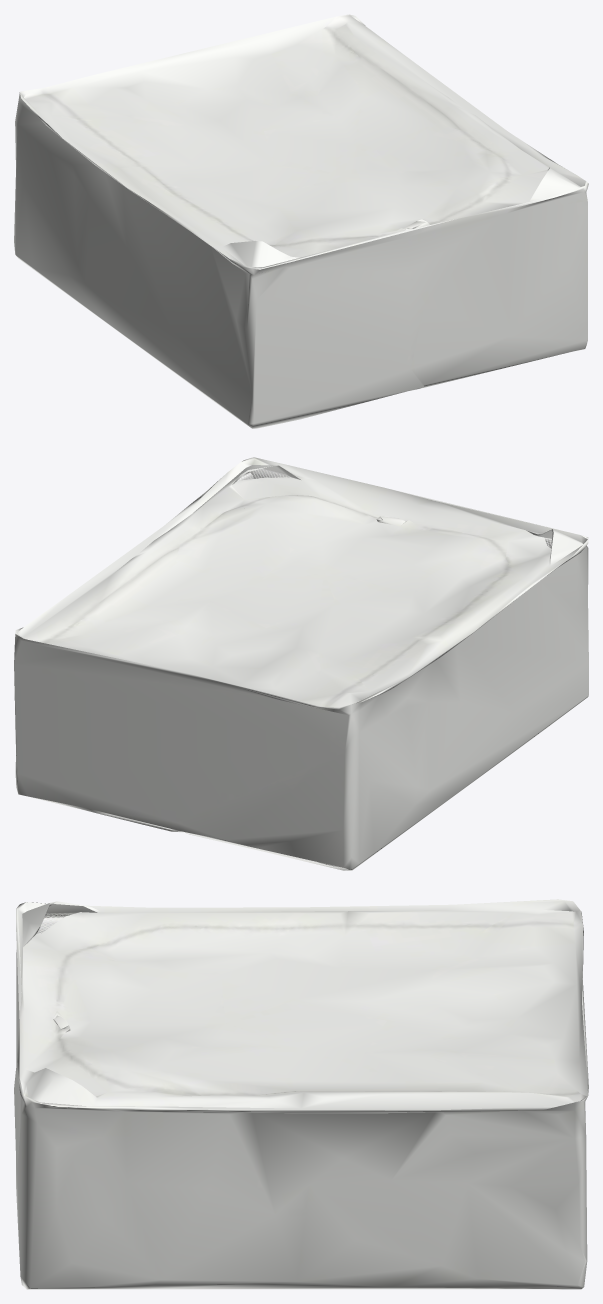
File: 02 - SKUBB - 收納盒, 白色, 43x53x19 公分 IKEA 線上購物.glb
The picture shows the model from 3 angles, top to bottom: view 1: azimuth 30°, elevation 25°; view 2: azimuth 150°, elevation 25°; view 3: azimuth 270°, elevation 25°; orthographic projection. The views are drawn at different scales.
Parts seen in each view (by area): view 1: ASY_ART_60591047_S01_NV01; view 2: ASY_ART_60591047_S01_NV01; view 3: ASY_ART_60591047_S01_NV01.
Part boxes in pixels (left/top/right/bottom): ASY_ART_60591047_S01_NV01: left=14, top=14, right=588, bottom=428; ASY_ART_60591047_S01_NV01: left=14, top=457, right=588, bottom=870; ASY_ART_60591047_S01_NV01: left=14, top=899, right=588, bottom=1289.
Size of the model in its own units: 0.4488 by 0.2191 by 0.5436.
2 materials, 2 textured.
